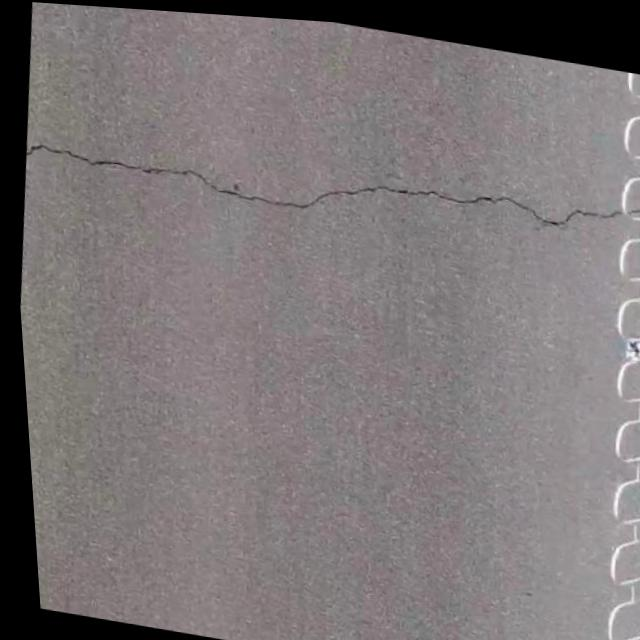Crack: (21, 87, 640, 281)
